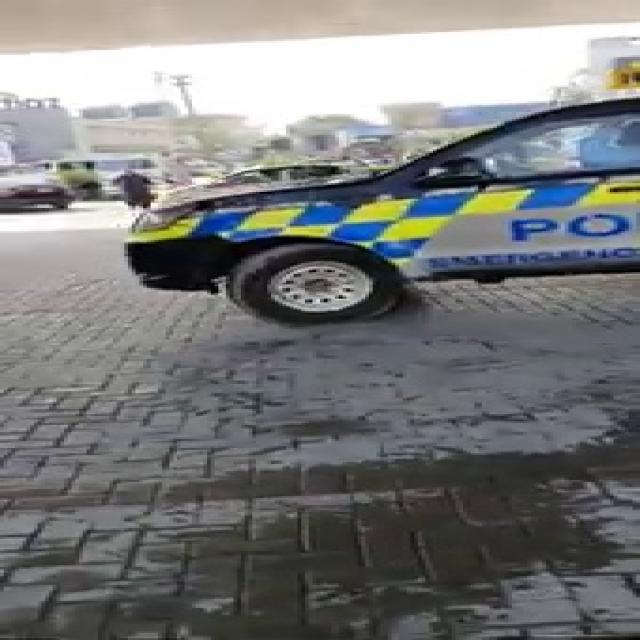police: (35, 46, 640, 316)
